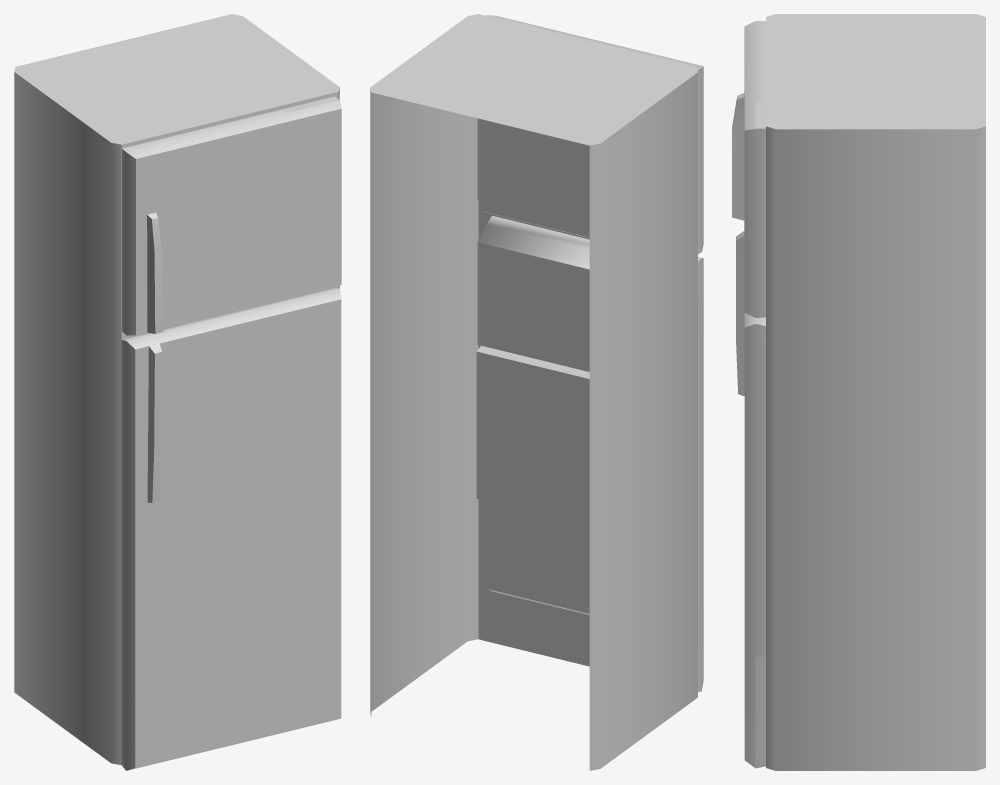
Rendered from Fridge.obj.
3 views of the same model, side by side, from view 1: azimuth 30°, elevation 25°; view 2: azimuth 150°, elevation 25°; view 3: azimuth 270°, elevation 25° (orthographic). The views are drawn at different scales.
Visible parts, largest first — view 1: B_Daily_R_St_N_Electric_0002:B_Electric_0_007_2, B_Daily_R_St_N_Electric_0002:B_Electric_0_007_3, B_Daily_R_St_N_Electric_0002:B_Electric_0_007_1; view 2: B_Daily_R_St_N_Electric_0002:B_Electric_0_007_3, B_Daily_R_St_N_Electric_0002:B_Electric_0_007_2, B_Daily_R_St_N_Electric_0002:B_Electric_0_007_1; view 3: B_Daily_R_St_N_Electric_0002:B_Electric_0_007_3, B_Daily_R_St_N_Electric_0002:B_Electric_0_007_2, B_Daily_R_St_N_Electric_0002:B_Electric_0_007_1.
Boxes of the visible parts, <box> form: B_Daily_R_St_N_Electric_0002:B_Electric_0_007_2: <box>121,288,341,770</box>; B_Daily_R_St_N_Electric_0002:B_Electric_0_007_3: <box>14,14,339,765</box>; B_Daily_R_St_N_Electric_0002:B_Electric_0_007_1: <box>122,96,341,335</box>; B_Daily_R_St_N_Electric_0002:B_Electric_0_007_3: <box>370,14,697,770</box>; B_Daily_R_St_N_Electric_0002:B_Electric_0_007_2: <box>482,211,703,692</box>; B_Daily_R_St_N_Electric_0002:B_Electric_0_007_1: <box>482,15,703,254</box>; B_Daily_R_St_N_Electric_0002:B_Electric_0_007_3: <box>766,14,985,770</box>; B_Daily_R_St_N_Electric_0002:B_Electric_0_007_2: <box>736,231,765,768</box>; B_Daily_R_St_N_Electric_0002:B_Electric_0_007_1: <box>732,21,765,317</box>.
Bounding box in the file's own units: 2.37 × 6.18 × 2.21.
Materials: 2 (2 with a texture image).
